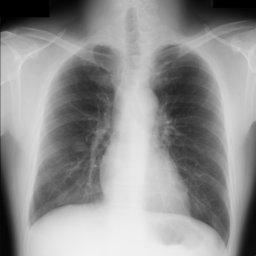left lobe: (152, 45, 228, 242)
right lobe: (30, 46, 116, 224)
